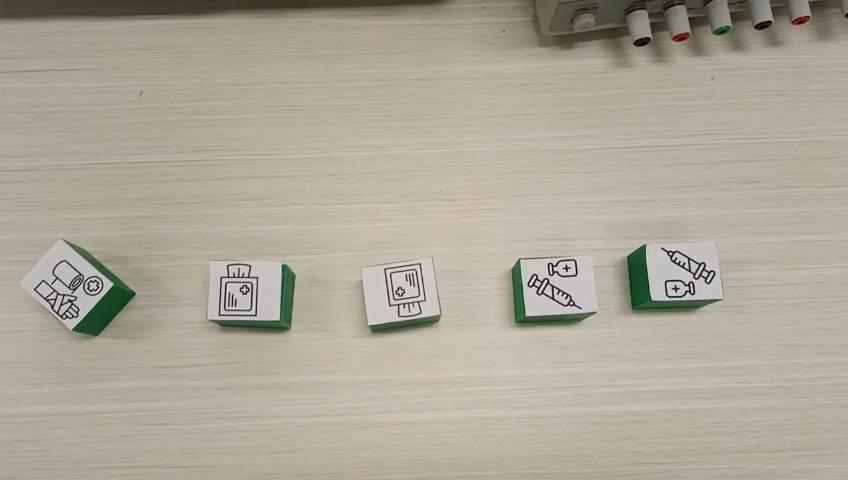Bandages: (16, 238, 135, 337)
Gauze: (360, 255, 443, 333), (207, 258, 297, 329)
antiseptic cream: (625, 239, 725, 311), (509, 253, 599, 323)
